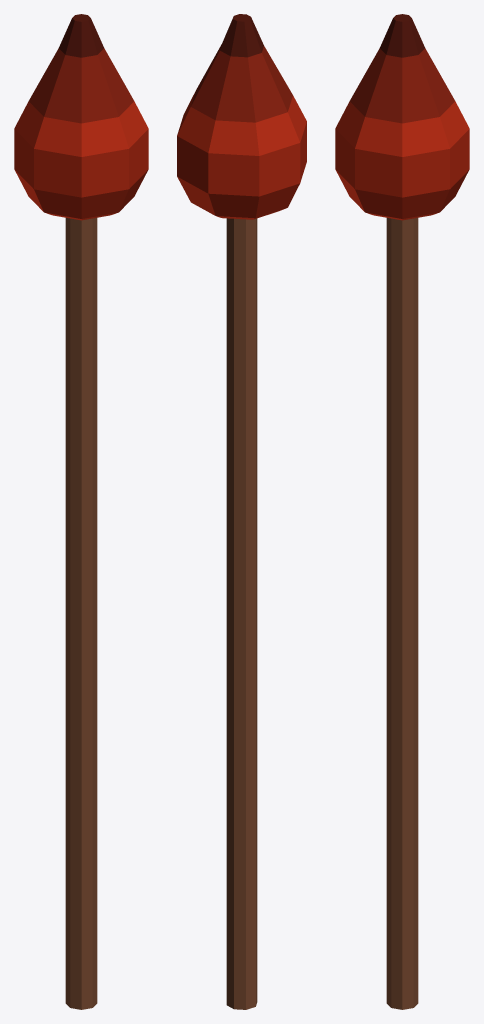
The model's file is model_staff.fbx.
The picture shows the model from 3 angles, left to right: view 1: azimuth 90°, elevation 25°; view 2: azimuth 150°, elevation 25°; view 3: azimuth 270°, elevation 25°; orthographic projection.
Visible parts, largest first — view 1: model_staff; view 2: model_staff; view 3: model_staff.
Part boxes in pixels (box(x1,y1,x2,y2)): model_staff: box(14, 14, 148, 1009); model_staff: box(177, 14, 306, 1009); model_staff: box(335, 14, 469, 1009).
Size of the model in its own units: 21 by 170 by 21.
